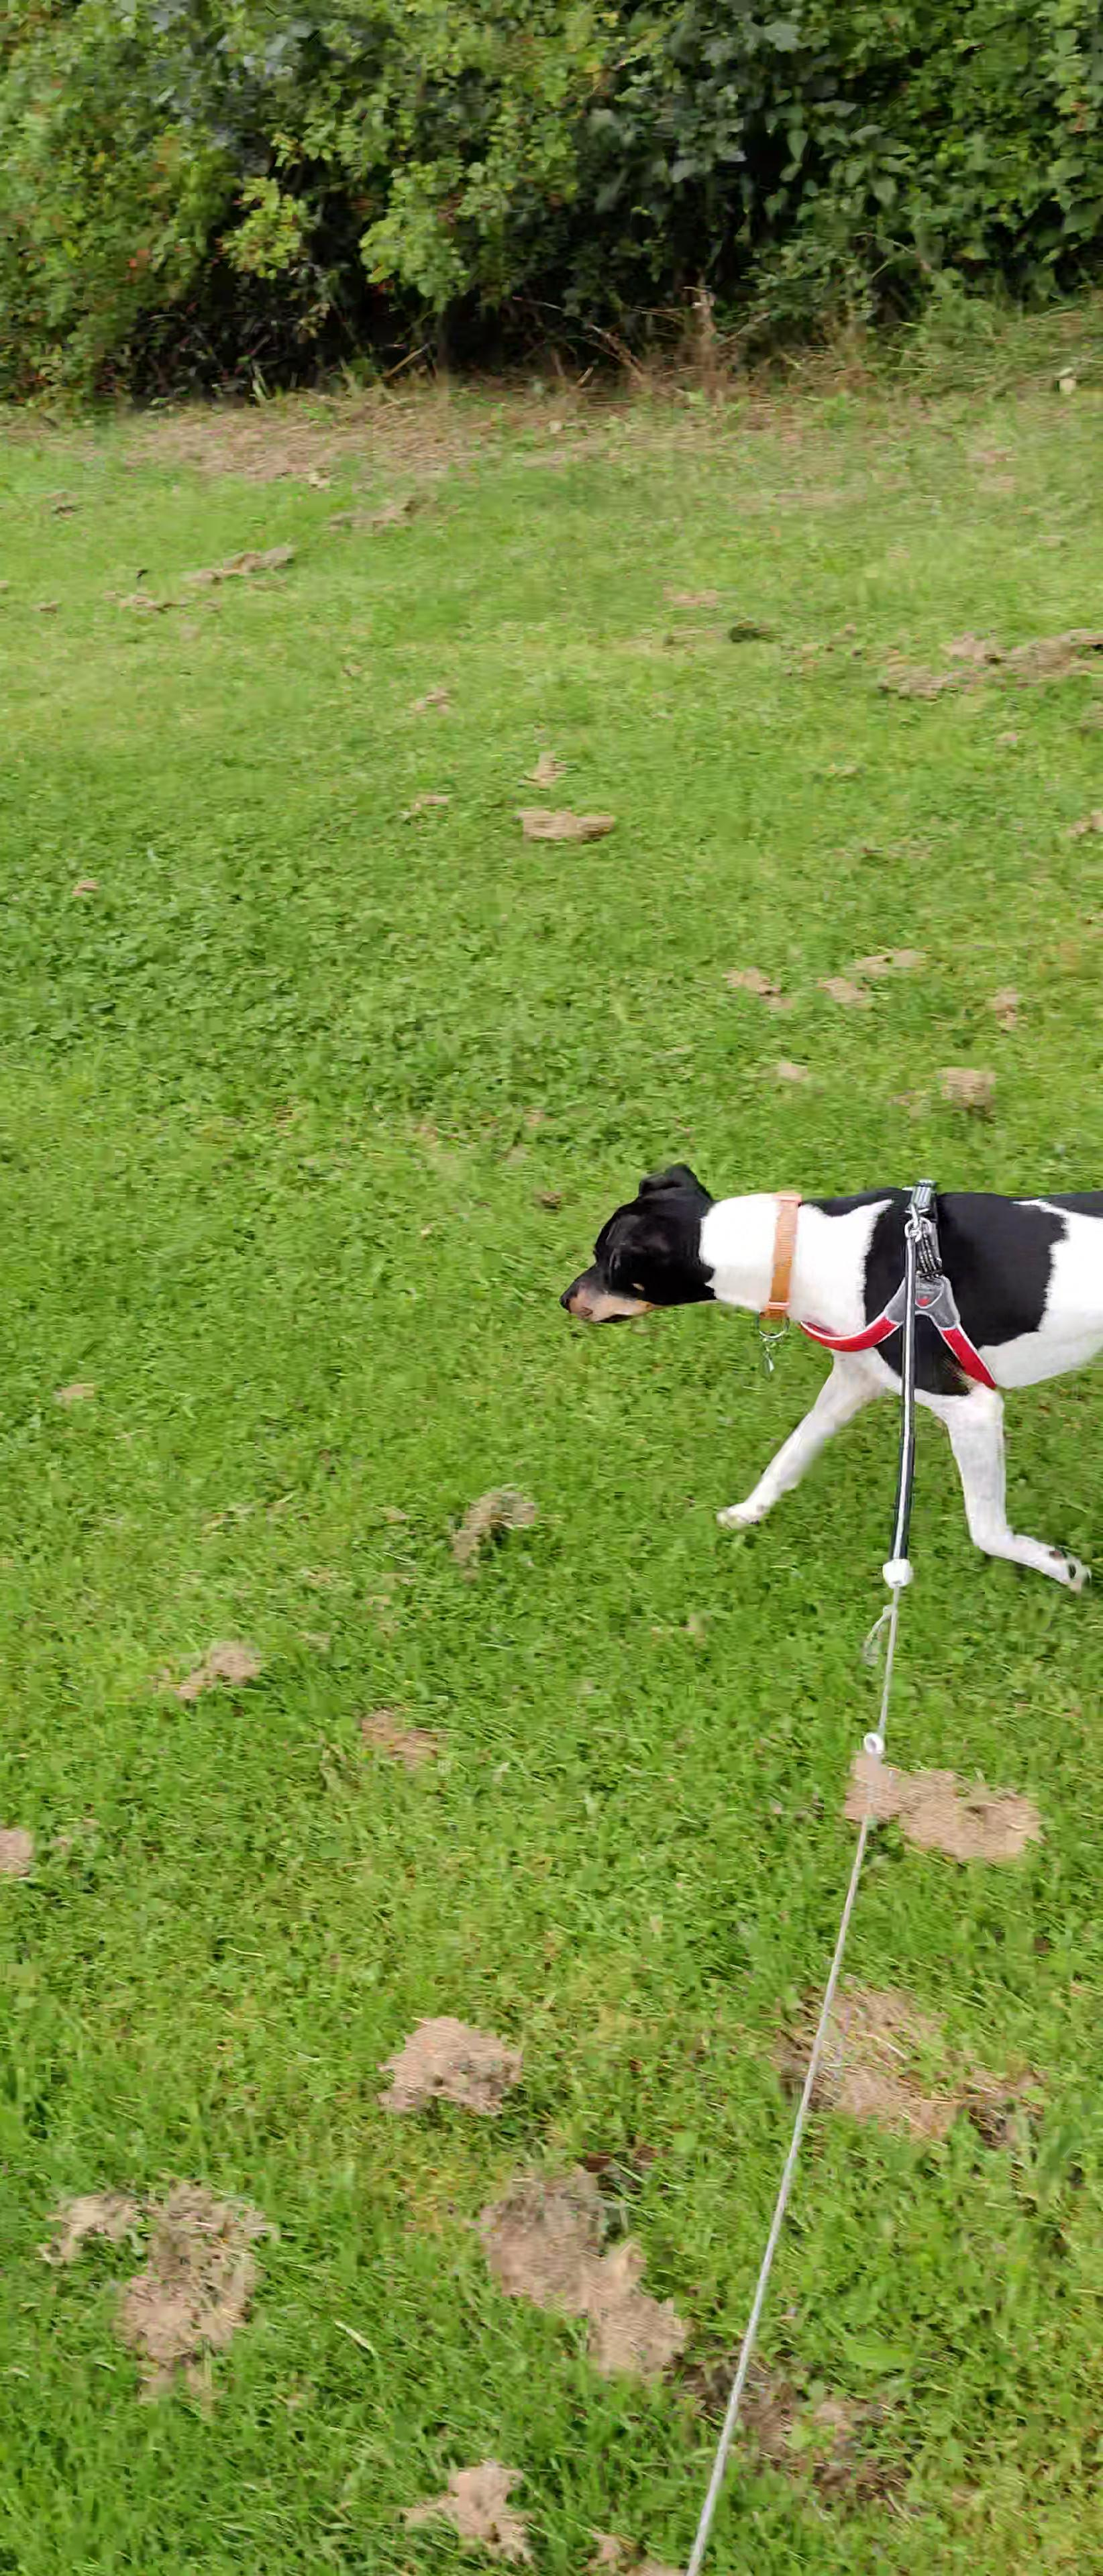Dog: (551, 1152, 1103, 1602)
